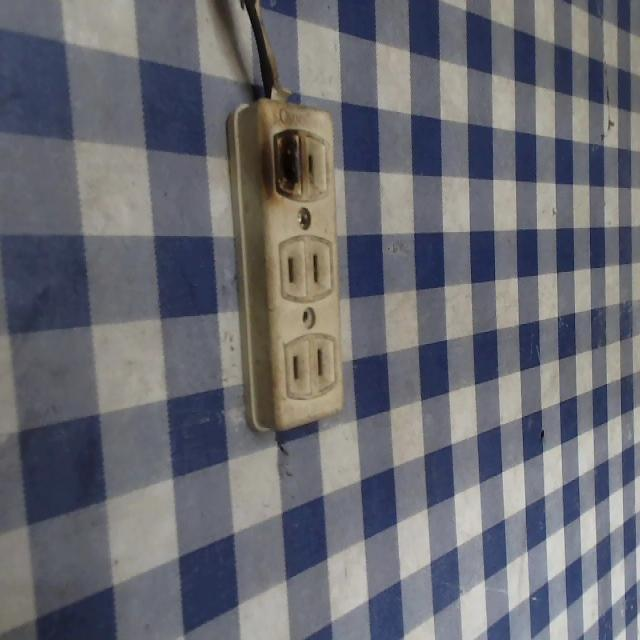-: (257, 119, 306, 208)
